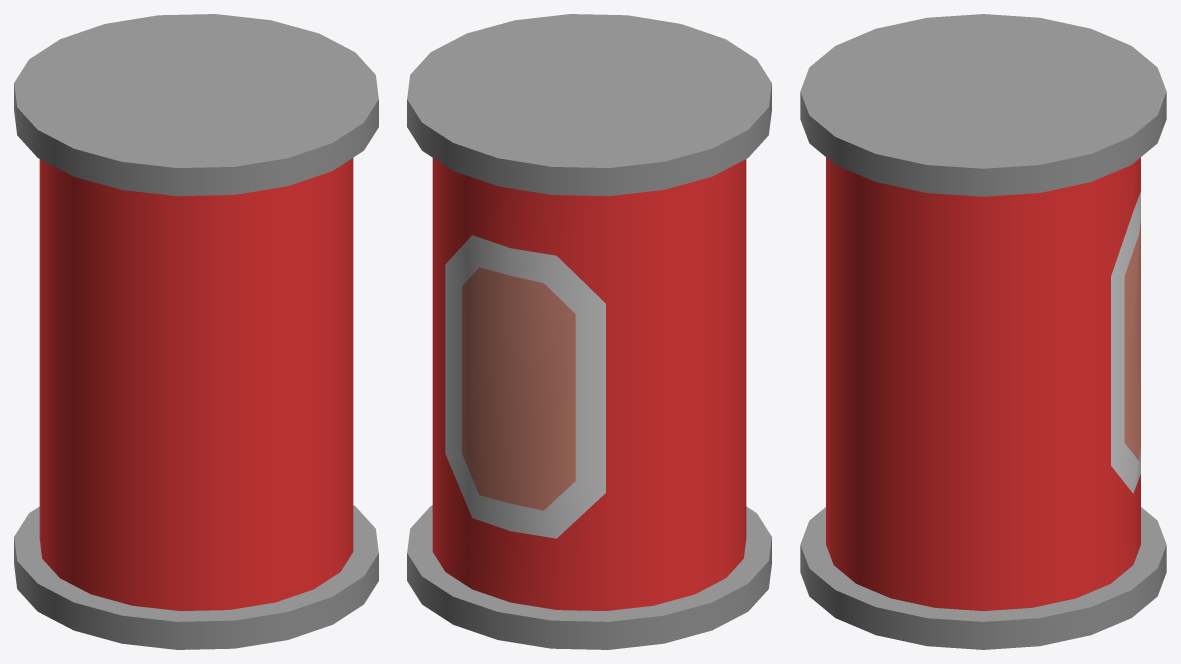
Rendered from KibbleCan.fbx.
3 renders of one model, left to right at view 1: azimuth 30°, elevation 25°; view 2: azimuth 150°, elevation 25°; view 3: azimuth 270°, elevation 25°, orthographic.
Visible parts, largest first — view 1: KibbleCan; view 2: KibbleCan; view 3: KibbleCan.
Part boxes in pixels (x1,y1,x2,y2): KibbleCan: (14,14,378,649); KibbleCan: (407,14,771,649); KibbleCan: (800,14,1166,649).
Size of the model in its own units: 46.85 by 67.92 by 46.85.
